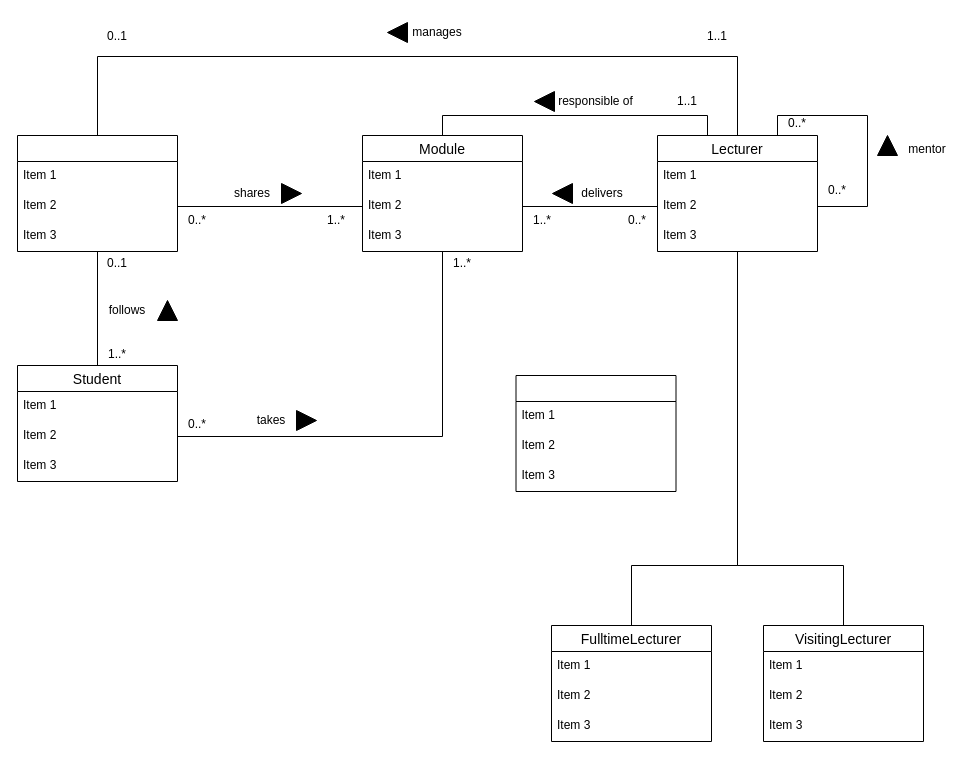
The diagram is 975 pixels wide and 761 high, and some of its shapes have lost their labels. Here are the shapes that lost their labels. From the top down, the box of each, then its label:
(16, 134, 178, 252): Course
(515, 374, 676, 492): Textbook
